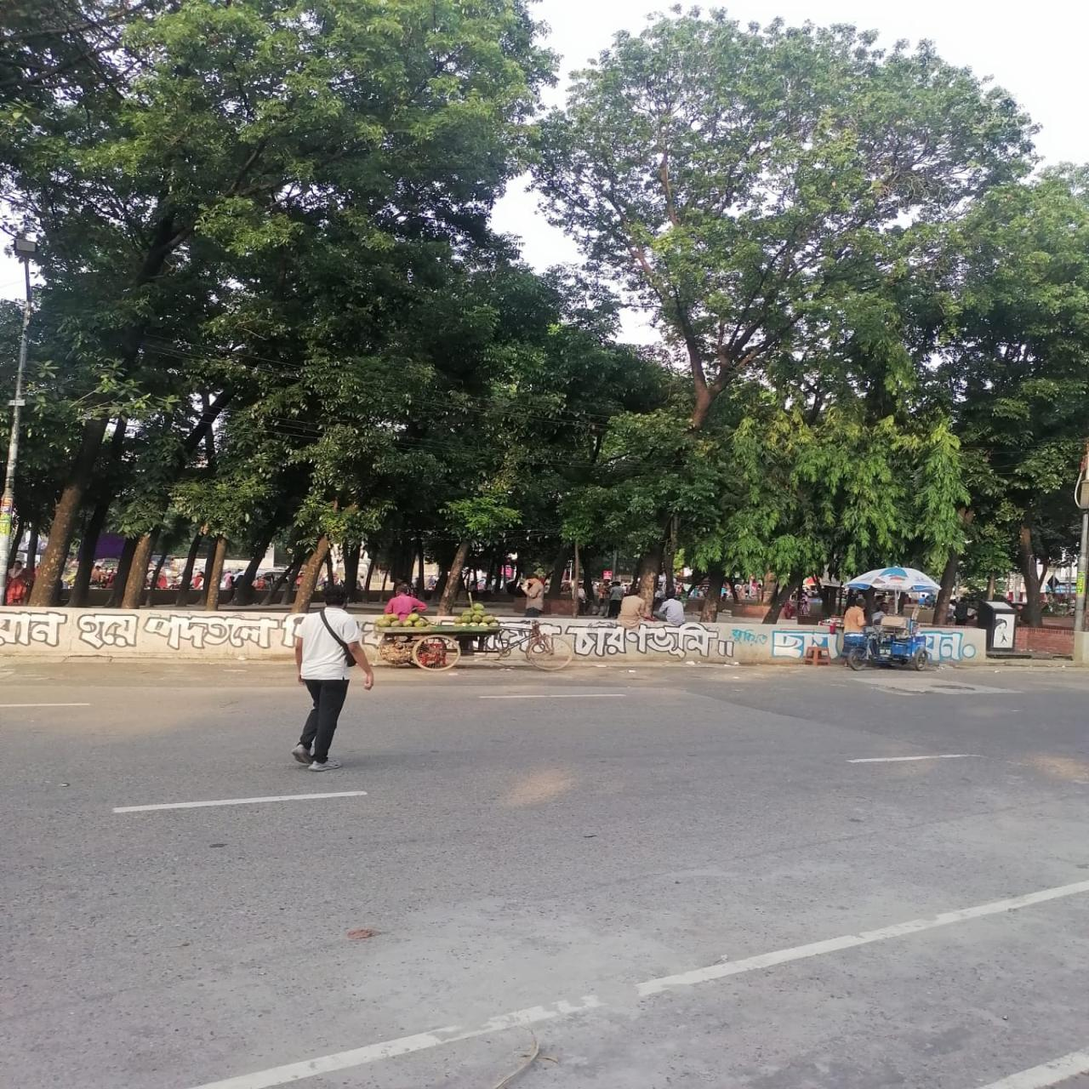person: (293, 596, 389, 781)
